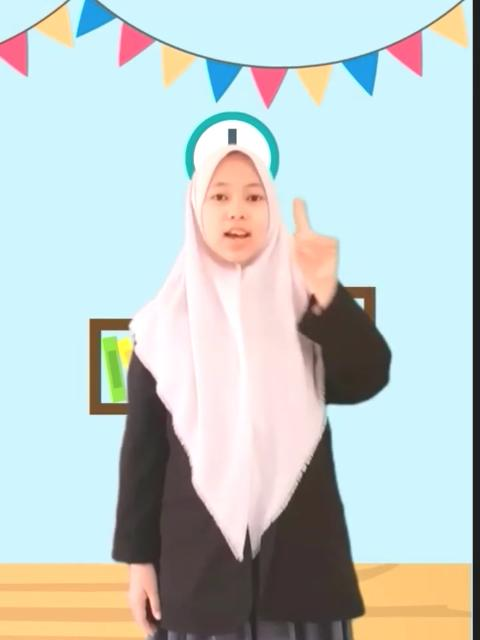Z: (286, 193, 346, 293)
